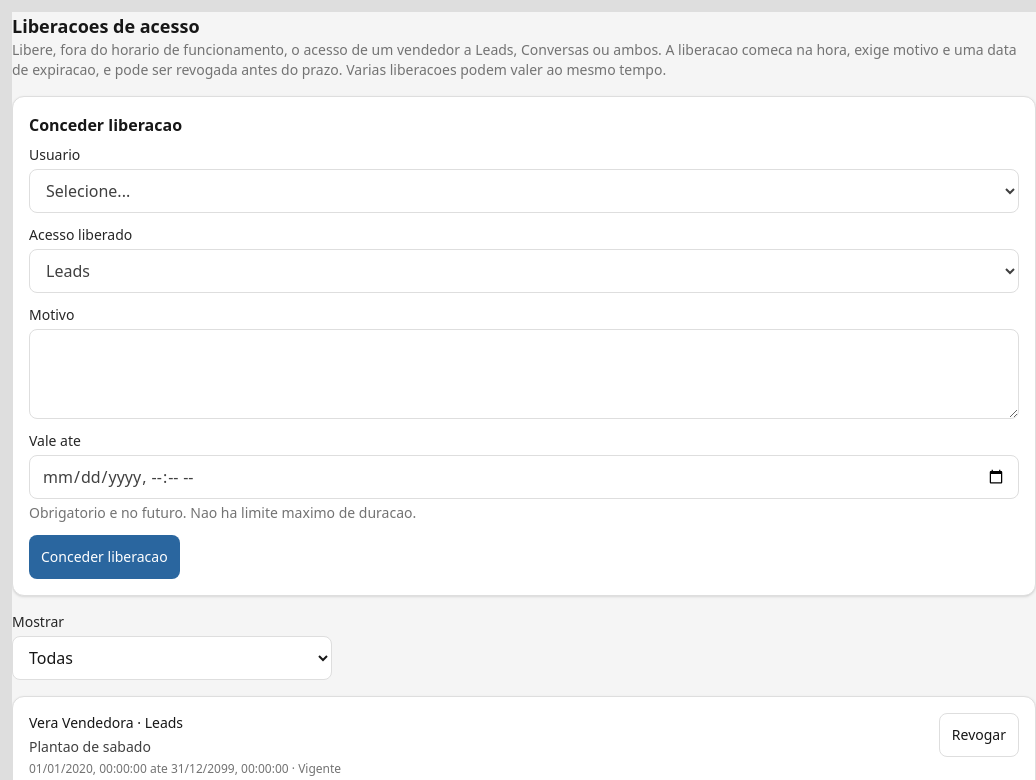
Test: AccessExceptionsPage (F4.7, Admin e Gerente) › o backend rejeita conceder a quem nao esta sujeito a restricao: mostra a mensagem
The width and height of the screenshot is (1036, 780).
Expected: the text "Plantao de sabado" is shown, x1=29 y1=737 x2=151 y2=756
Select "Vera Vendedora" in the dropdown labelled "Usuario": (524, 191) x1=29 y1=169 x2=1019 y2=213
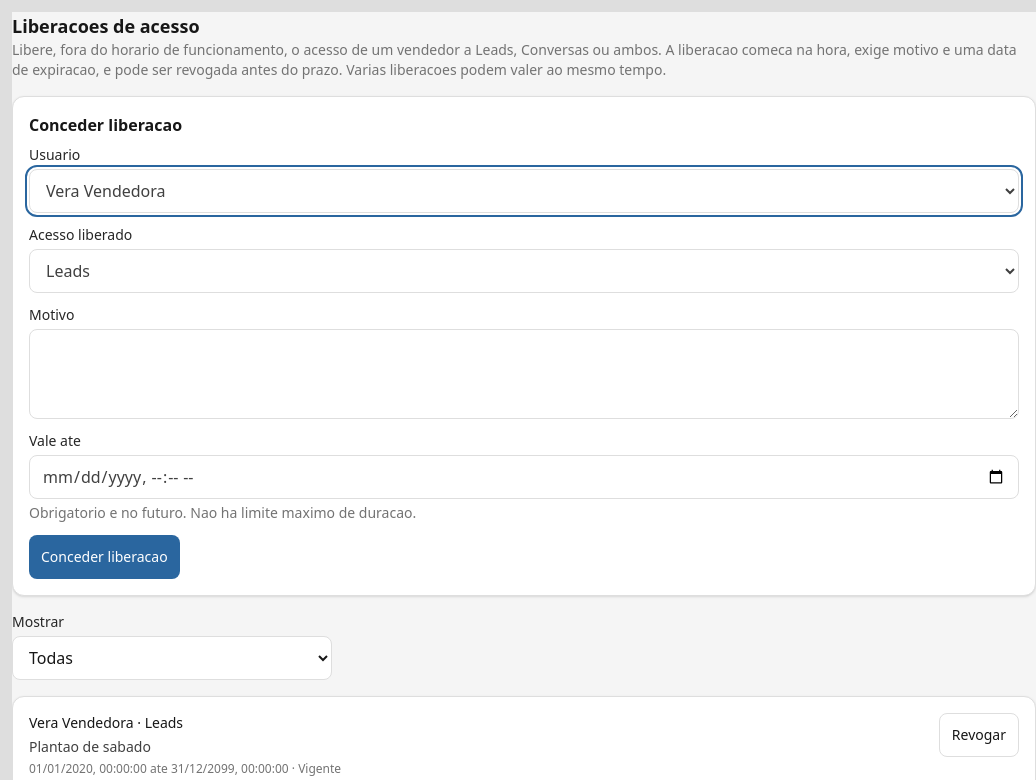
In the text box labelled "Motivo": (524, 374) x1=29 y1=329 x2=1019 y2=419, type "Motivo"
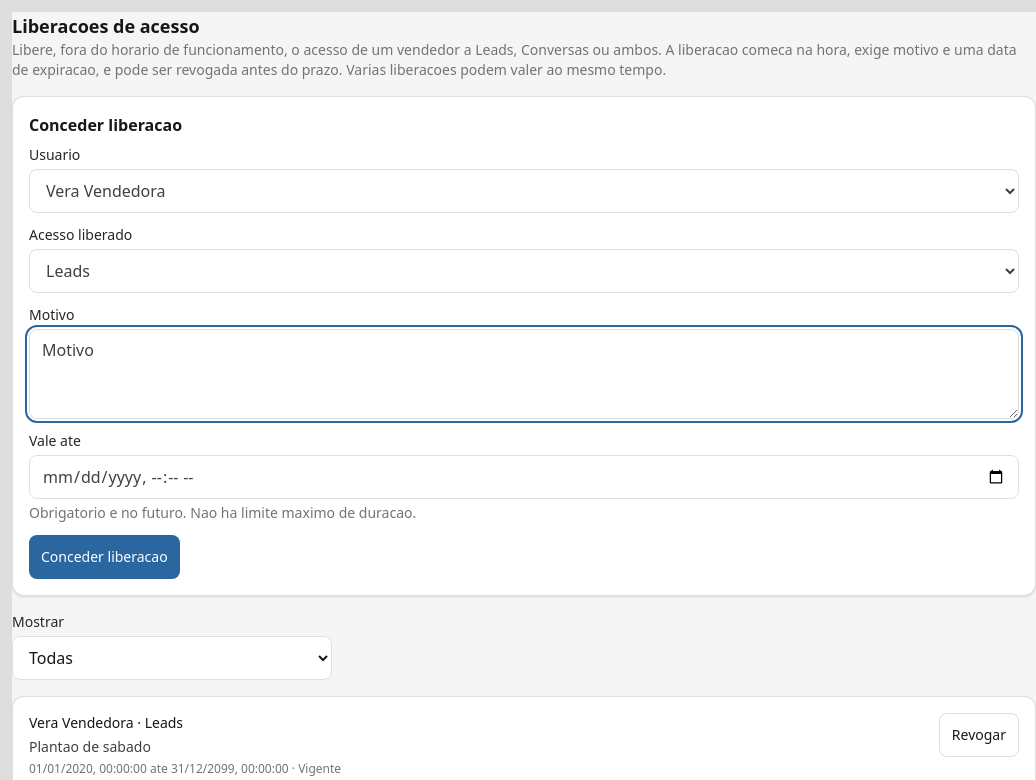
In the field labelled "Vale ate": (524, 477) x1=29 y1=455 x2=1019 y2=499, type "2099-01-01T10:00"
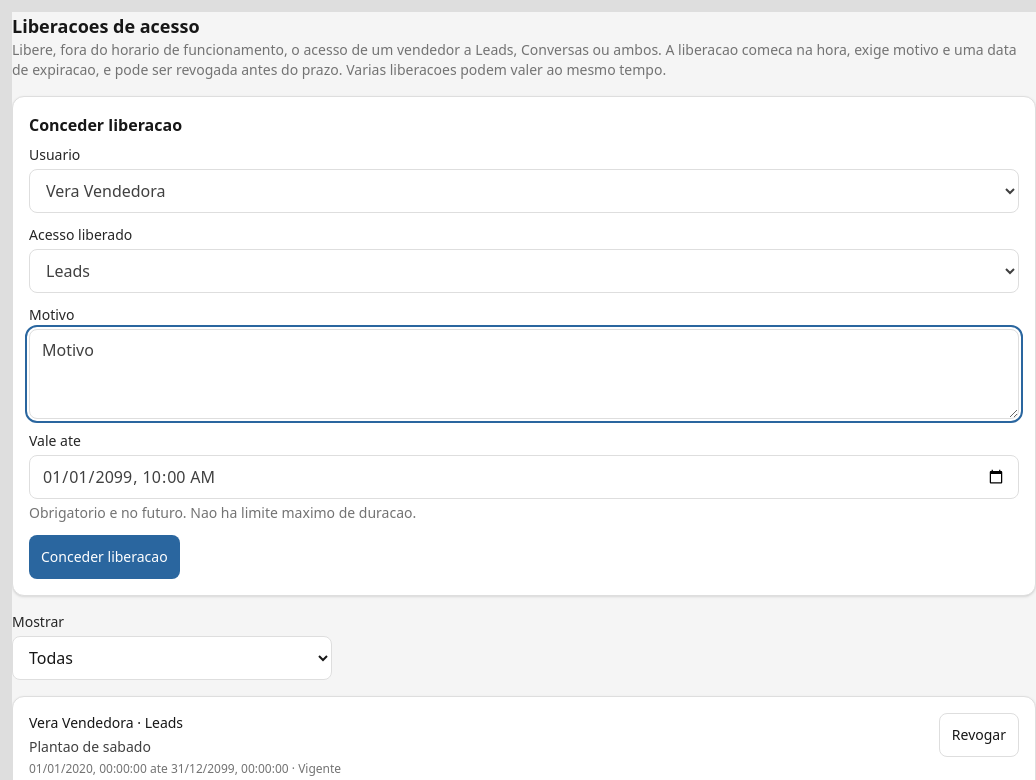
Click the button "Conceder liberacao": (104, 557) x1=29 y1=535 x2=180 y2=579
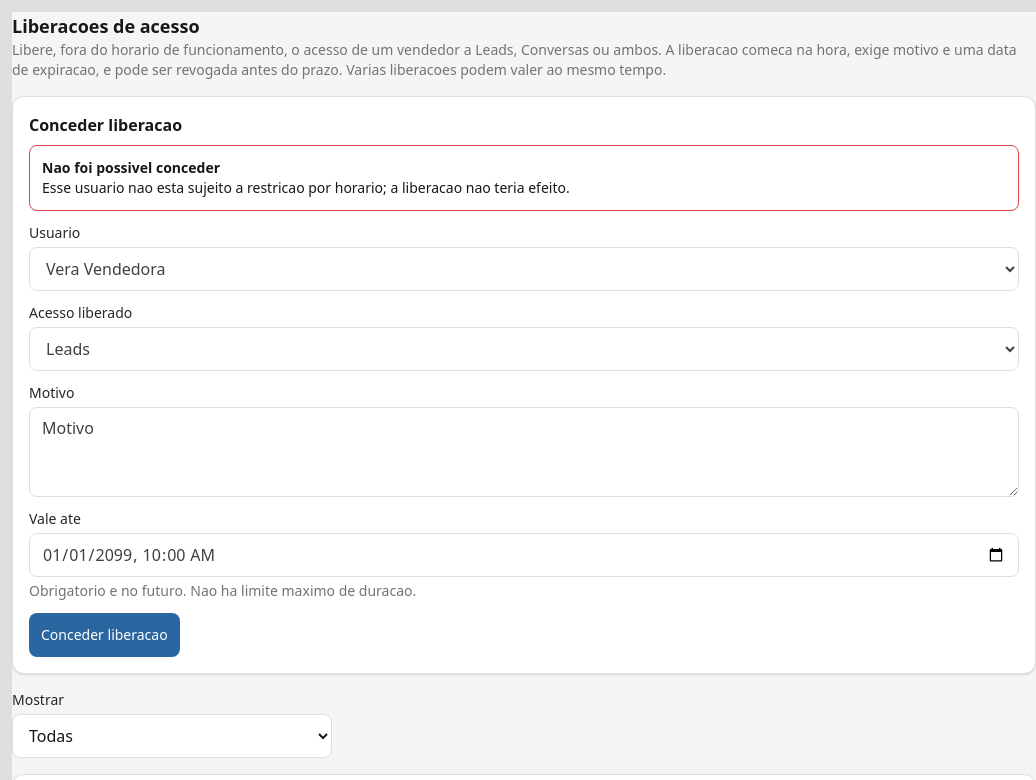
Now the text "nao esta sujeito a restricao por horario" is shown, box x1=42 y1=178 x2=570 y2=197
